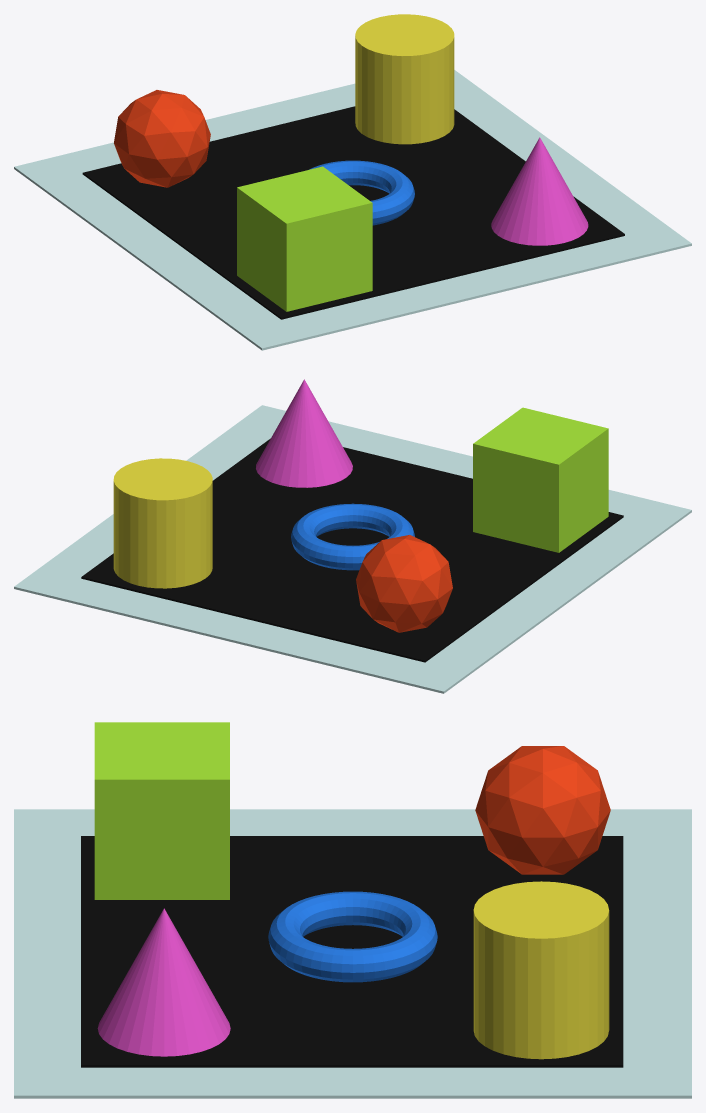
Rendered from demo_001.glb.
3 views of the same model, one above another, from view 1: azimuth 30°, elevation 25°; view 2: azimuth 150°, elevation 25°; view 3: azimuth 270°, elevation 25° (orthographic). The views are drawn at different scales.
Parts seen in each view (by area): view 1: Plane.001, Plane, Cube, Cylinder, Icosphere, Cone, Torus; view 2: Plane.001, Plane, Cube, Cylinder, Icosphere, Cone, Torus; view 3: Plane.001, Plane, Cube, Cylinder, Icosphere, Cone, Torus.
Part boxes in pixels (bbox=[...]): Plane.001: bbox=[82, 106, 624, 319]; Plane: bbox=[14, 70, 691, 350]; Cube: bbox=[237, 166, 372, 311]; Cylinder: bbox=[355, 14, 454, 144]; Icosphere: bbox=[114, 90, 210, 187]; Cone: bbox=[491, 137, 588, 245]; Torus: bbox=[309, 160, 414, 225]; Plane.001: bbox=[81, 438, 623, 662]; Plane: bbox=[14, 405, 691, 693]; Cube: bbox=[473, 407, 608, 552]; Cylinder: bbox=[113, 458, 212, 588]; Icosphere: bbox=[356, 535, 452, 632]; Cone: bbox=[256, 379, 352, 487]; Torus: bbox=[291, 503, 414, 570]; Plane.001: bbox=[81, 836, 623, 1067]; Plane: bbox=[14, 809, 691, 1098]; Cube: bbox=[94, 722, 229, 899]; Cylinder: bbox=[473, 881, 609, 1059]; Icosphere: bbox=[475, 746, 610, 874]; Cone: bbox=[97, 908, 230, 1056]; Torus: bbox=[268, 891, 437, 982].
Size of the model in its own units: 10 by 2.05 by 10.
